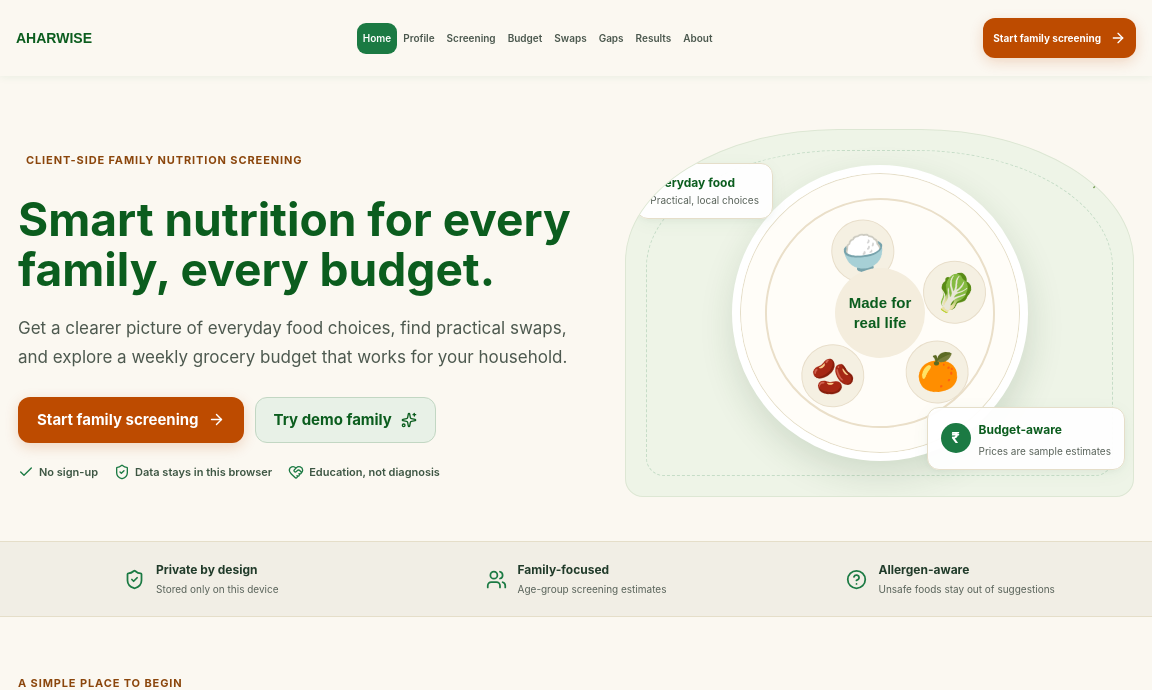
Test: AHARWISE end-to-end user flows › completes the demo family flow from Home to Results and Start over
Click the button "Try demo family" at (345, 420), box [254,397,436,443]
(page scrolled)
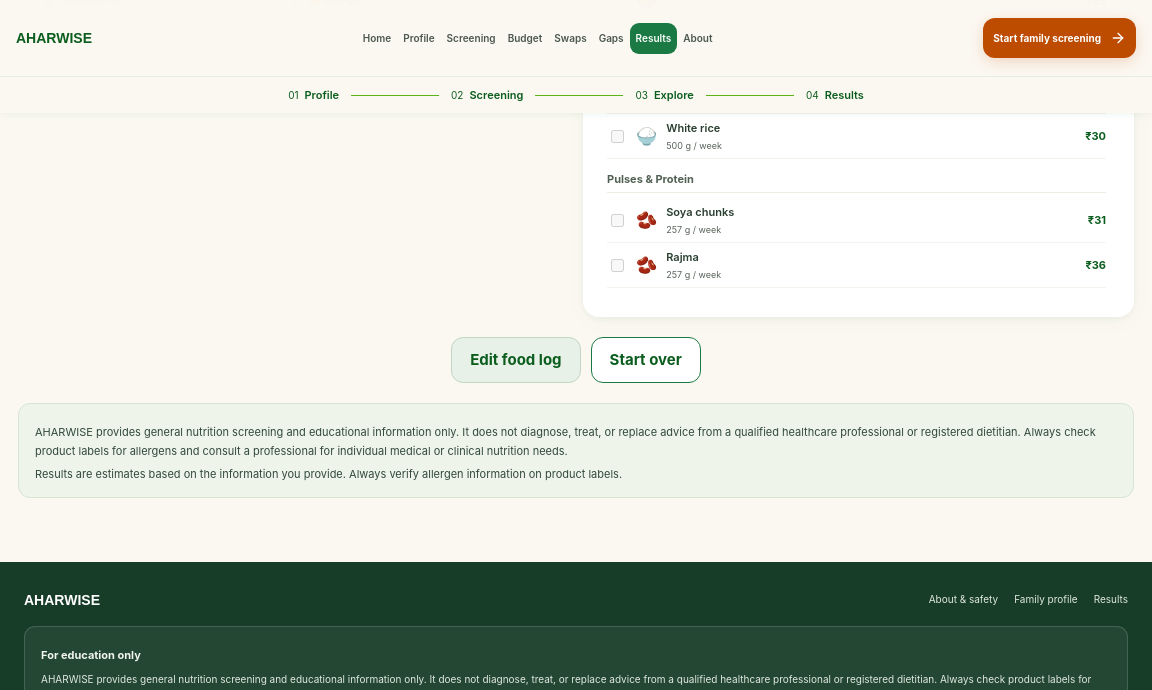
Click the button "Start over" at (646, 360), box [591,337,701,383]
(page scrolled)
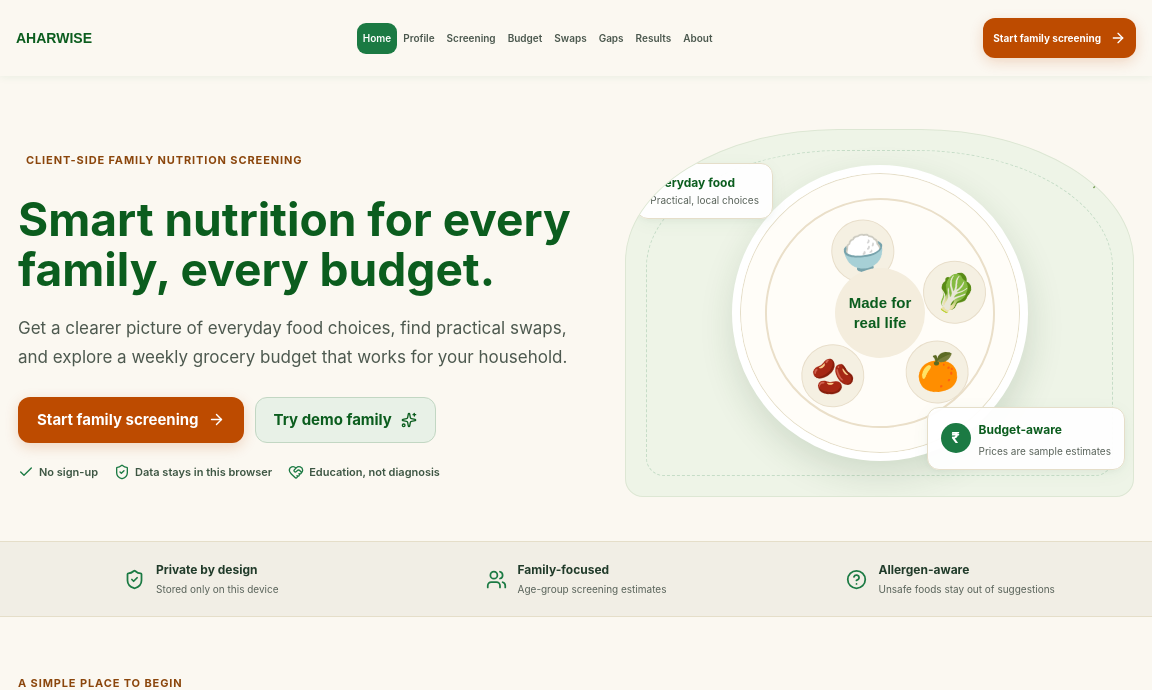
Check: the heading "Smart nutrition for every family, every budget." is shown, box [18,194,580,294]
